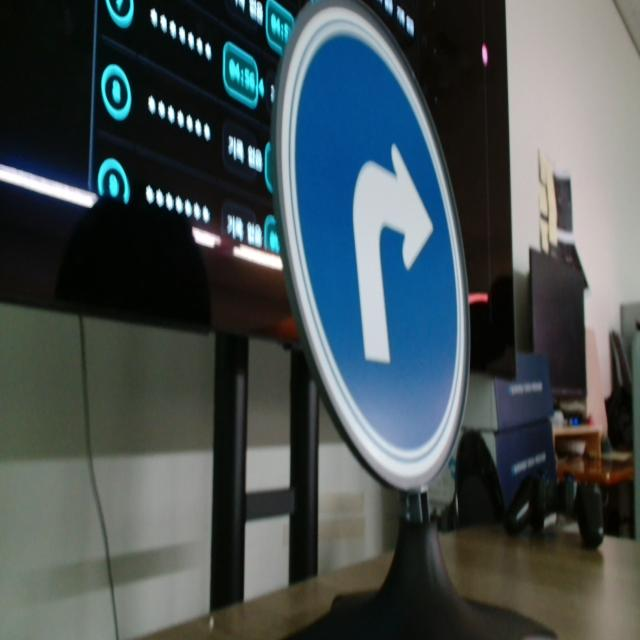right_dierection: (264, 0, 485, 507)
